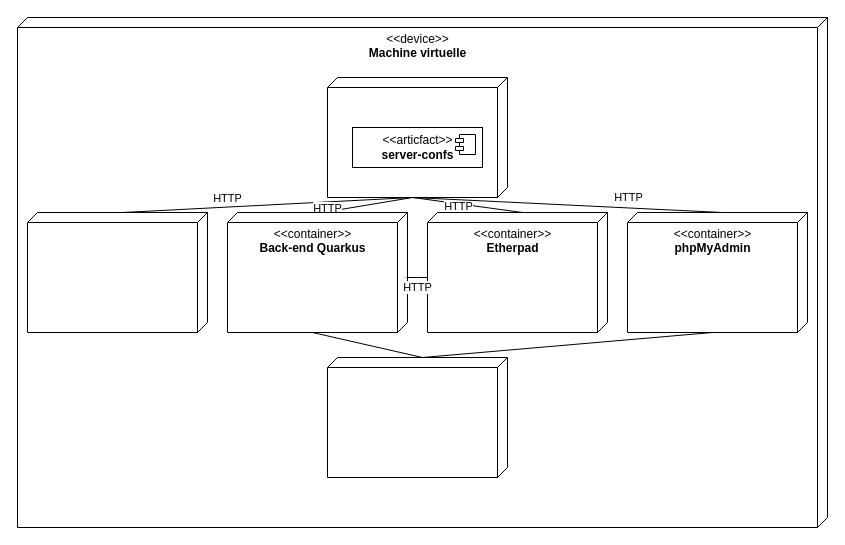
Image size: 845x545. Some labels were removed from this diagram. Here are the shapes that lost their labels. From the top down, the box of each, then its label:
(326, 76, 508, 198): <<container>> Bunkerized Nginx
(26, 212, 208, 332): <<container>> Serveur Nginx (front-end)
(326, 356, 508, 478): <<container>> MySQL
